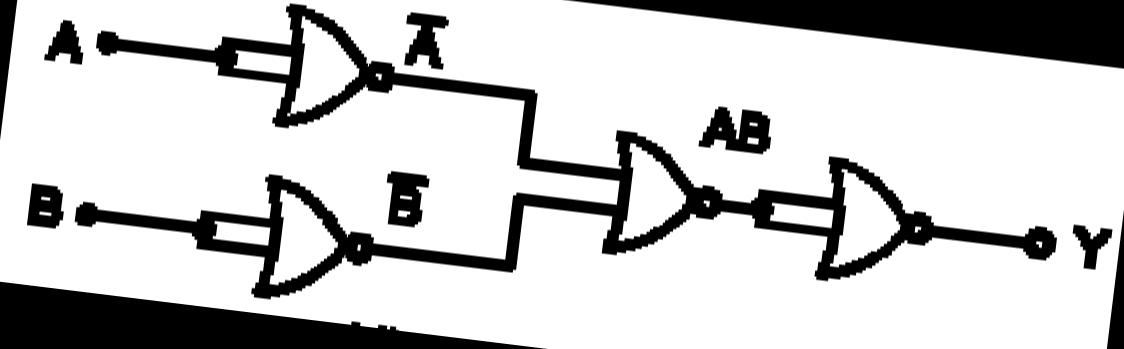nor: (784, 139, 972, 312), (578, 118, 746, 292), (242, 0, 419, 154), (229, 159, 395, 320)
